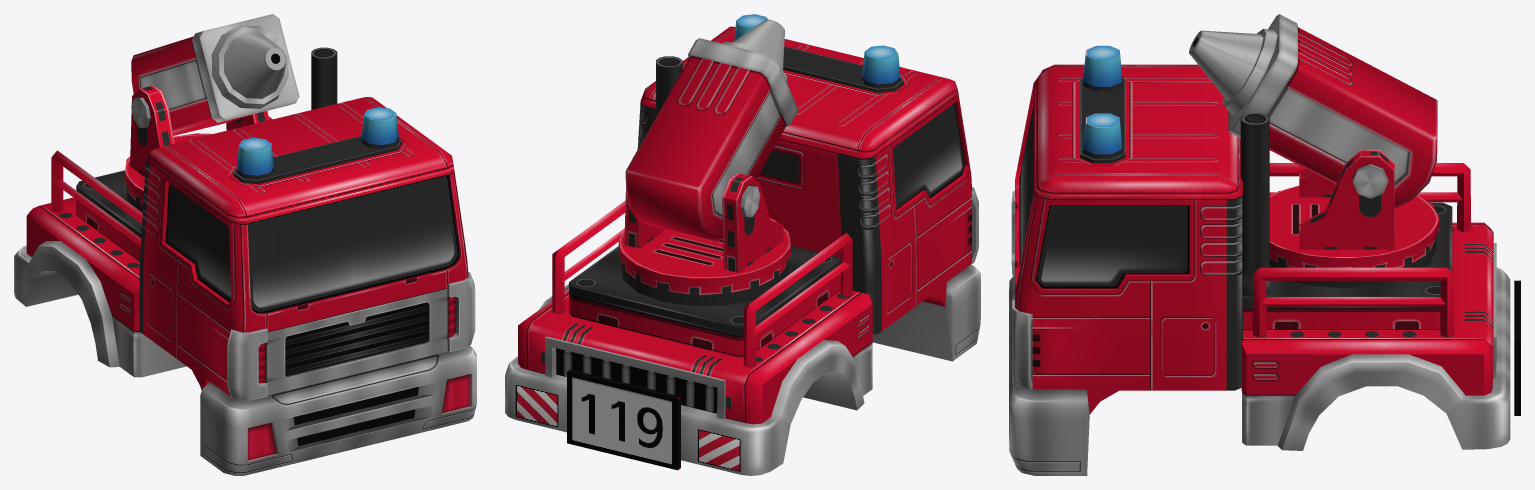
File: firecar.FBX
The picture shows the model from 3 angles, left to right: view 1: azimuth 30°, elevation 25°; view 2: azimuth 150°, elevation 25°; view 3: azimuth 270°, elevation 25°; orthographic projection. The views are drawn at different scales.
Visible parts, largest first — view 1: car001; view 2: car001; view 3: car001.
Part boxes in pixels (left/top/right/bottom): car001: left=14, top=14, right=476, bottom=475; car001: left=505, top=14, right=980, bottom=475; car001: left=1009, top=14, right=1520, bottom=475.
Bounding box in the file's own units: 0.2994 × 0.3761 × 0.4632.
